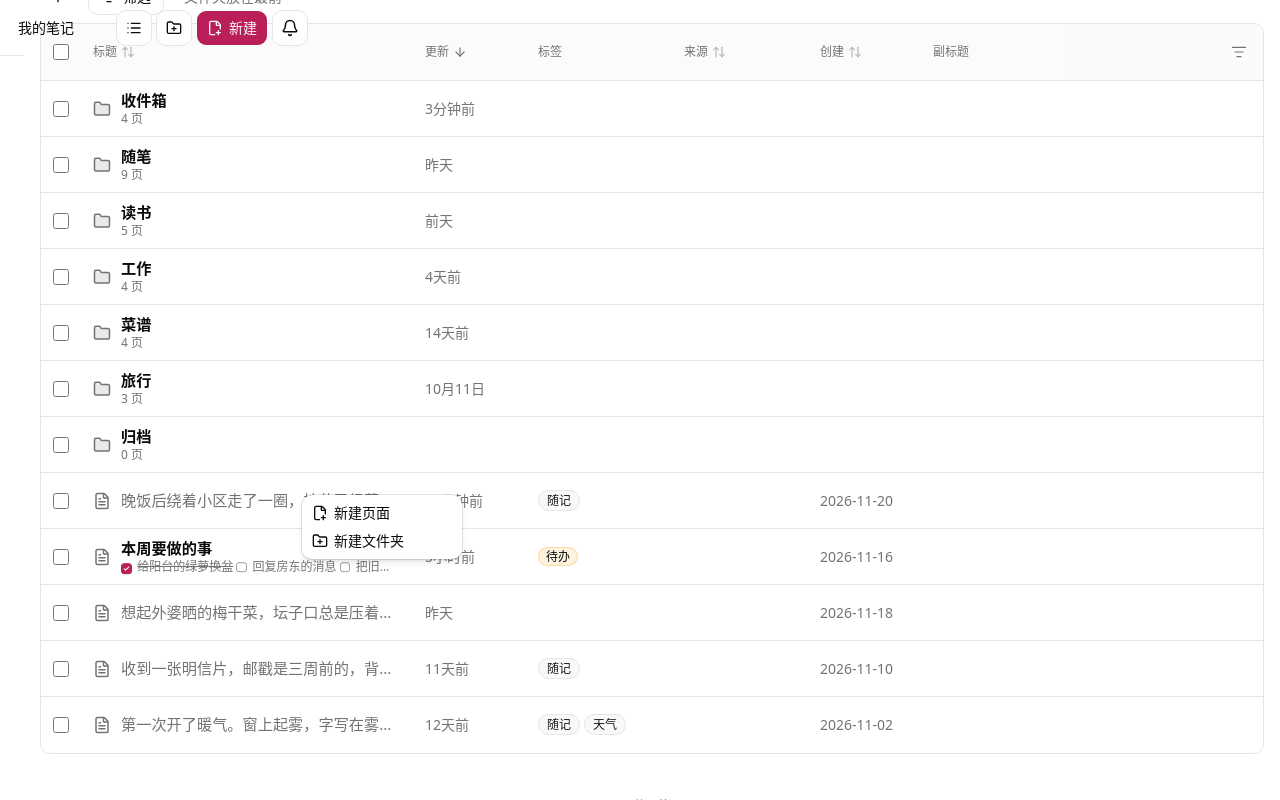
Test case: the folder listing › the empty-space menu runs New folder: a dialog that asks for a name only
Earlier steps of the test are not shown.
(page scrolled)
Click the menu item "新建文件夹": [358, 540] box [312, 531, 404, 550]
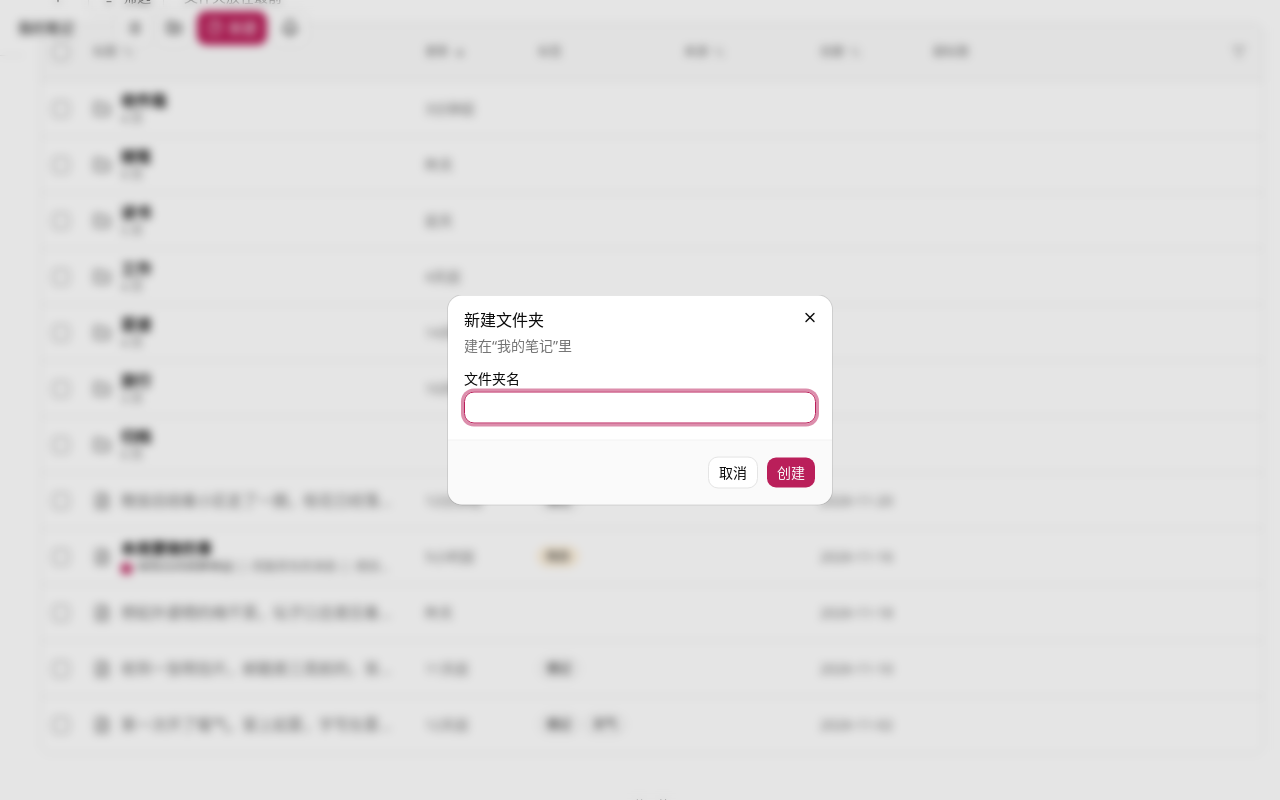
Now the number of fields is 1, box [464, 392, 816, 424]
Now the dialog shows "文件夹名", box [464, 368, 520, 388]
